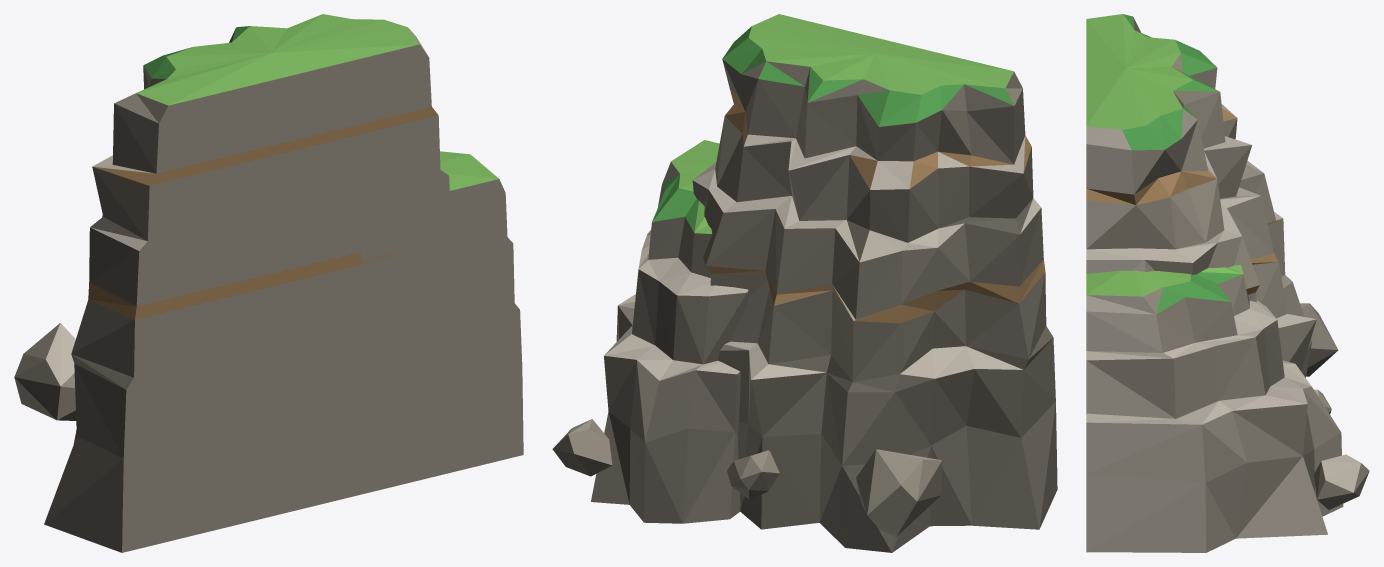
File: cliff_chunk_b.glb
3 views of the same model, side by side, from view 1: azimuth 30°, elevation 25°; view 2: azimuth 150°, elevation 25°; view 3: azimuth 270°, elevation 25° (orthographic). The views are drawn at different scales.
Parts seen in each view (by area): view 1: cliff_chunk_b; view 2: cliff_chunk_b; view 3: cliff_chunk_b.
Part boxes in pixels (left/top/right/bottom): cliff_chunk_b: left=14, top=14, right=523, bottom=552; cliff_chunk_b: left=552, top=14, right=1057, bottom=552; cliff_chunk_b: left=1086, top=14, right=1369, bottom=552.
Size of the model in its own units: 8.69 by 8.45 by 5.62.
